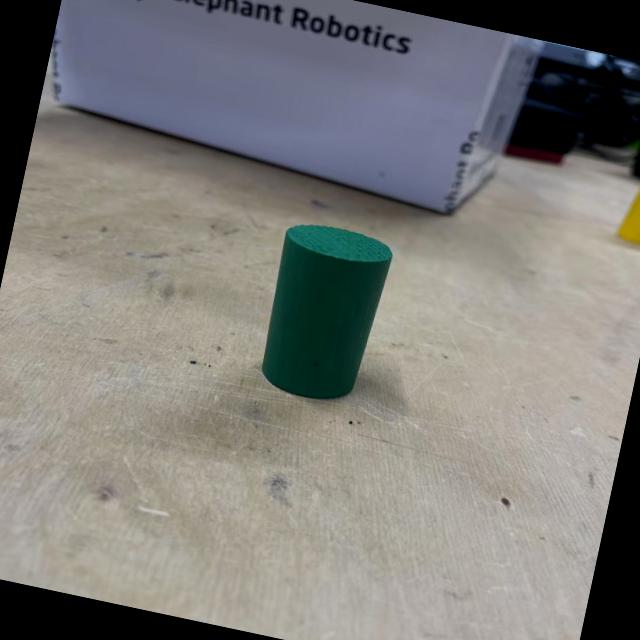green_cylinder: (252, 216, 398, 410)
